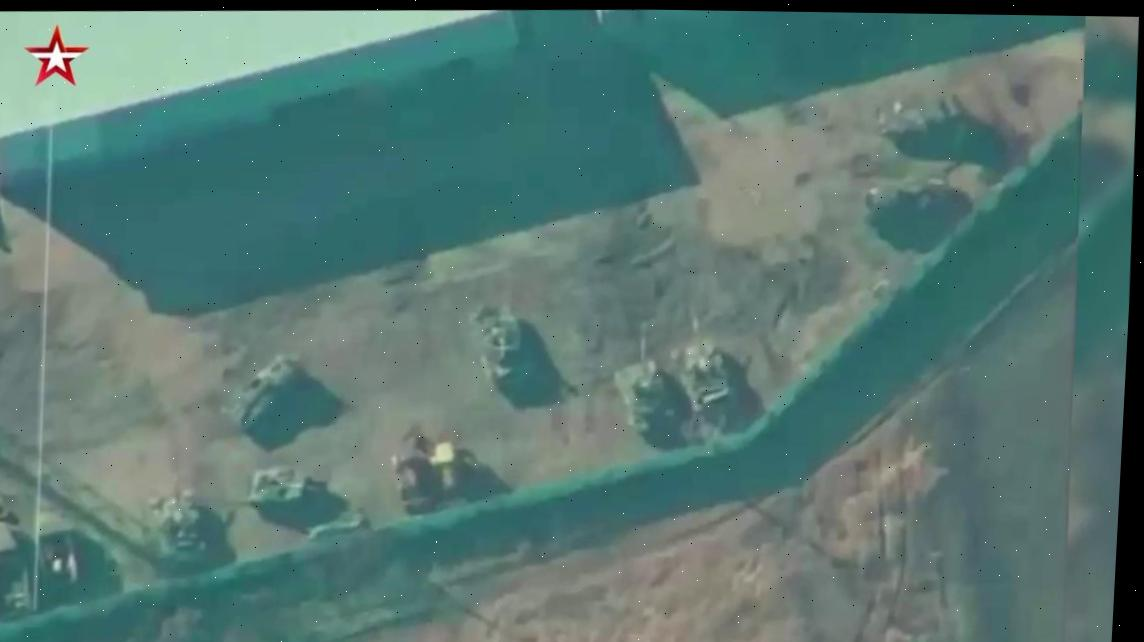tank: (441, 302, 540, 408), (856, 161, 954, 249), (664, 300, 738, 412), (608, 320, 680, 431), (218, 346, 303, 439), (142, 474, 209, 572), (875, 85, 962, 150), (241, 464, 332, 515)
truck: (33, 495, 88, 592), (0, 517, 39, 621)
